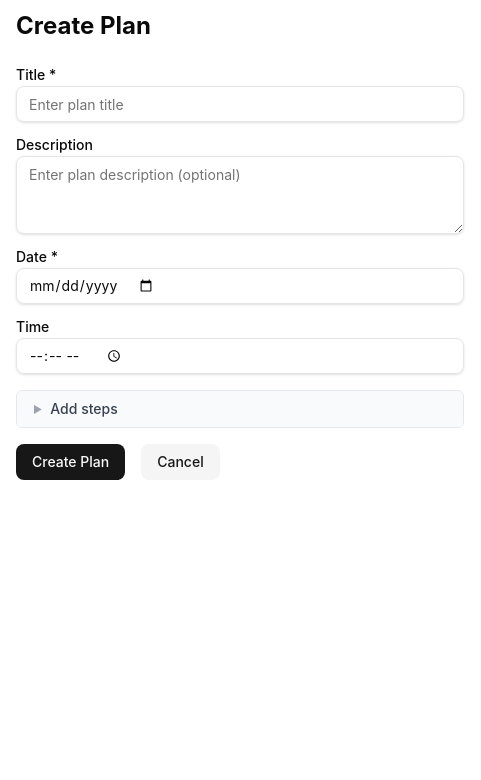
Test: PlanForm › step management › shows step editor when add step button is clicked
The image size is (481, 780).
What coordinates should you click on to do the following:
click the button with class "steps-toggle"
I would click on:
 (84, 408)
Its box is [17,391,463,427].
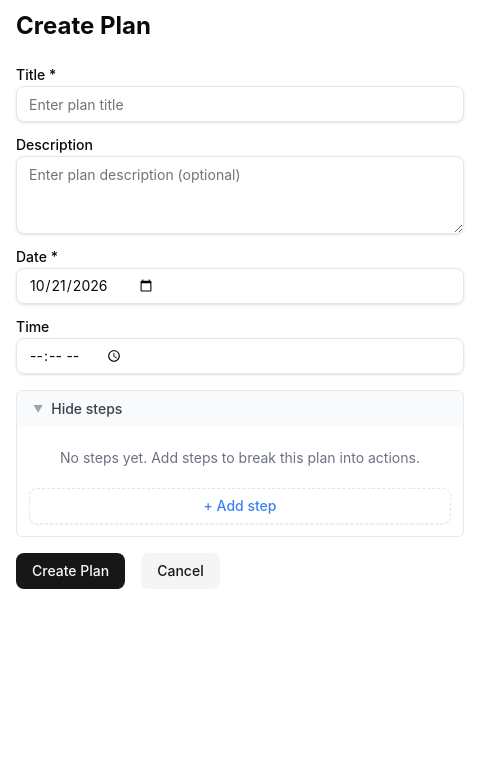
What coordinates should you click on to do the following:
click the button with class "add-step-button"
I would click on:
 (240, 506)
Its box is [29,488,451,524].
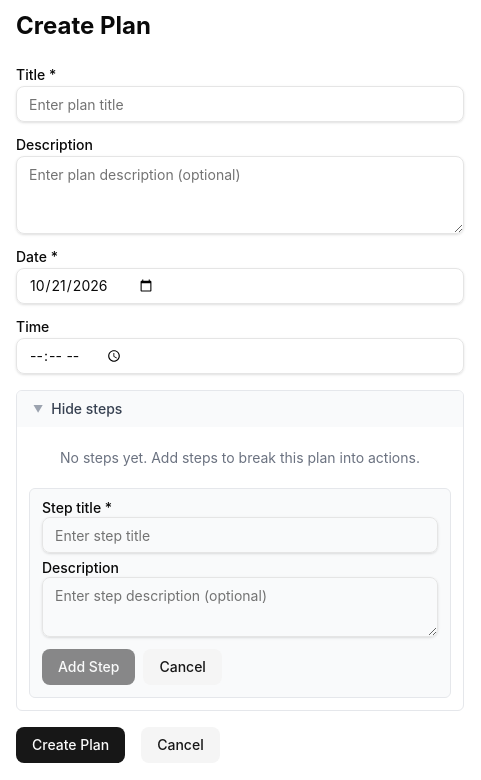
Expected: the element with class "step-editor" is shown, [29,488,451,698]
